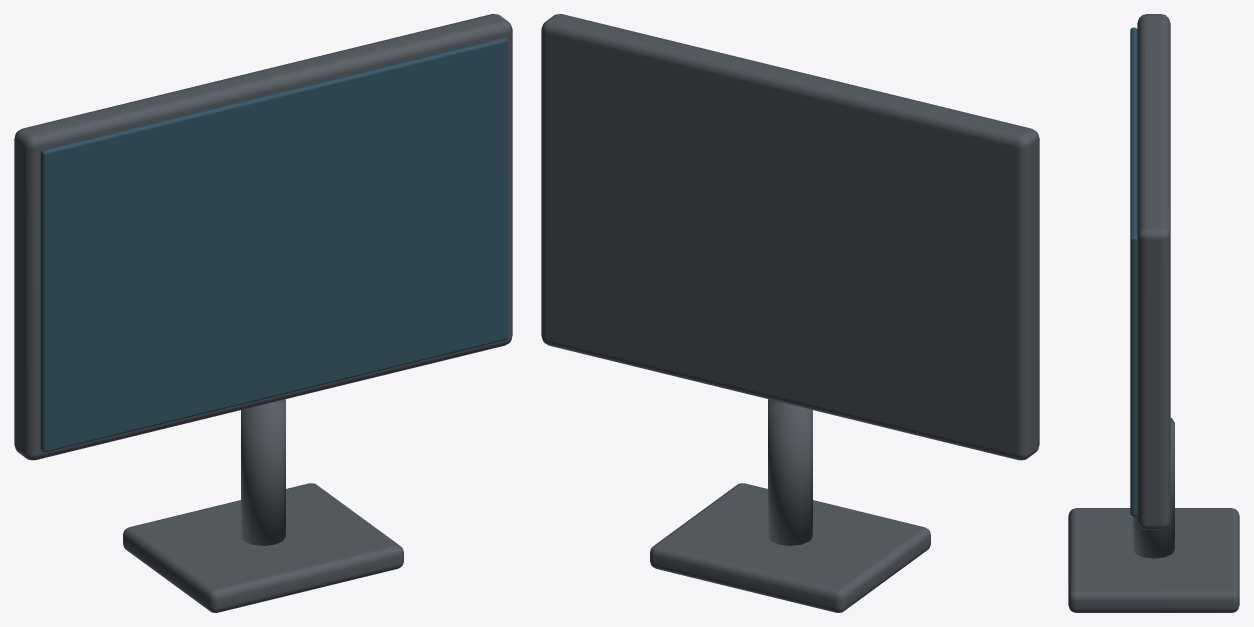
Rendered from atelier-monitor.glb.
3 views of the same model, side by side, from view 1: azimuth 30°, elevation 25°; view 2: azimuth 150°, elevation 25°; view 3: azimuth 270°, elevation 25° (orthographic). The views are drawn at different scales.
Visible parts, largest first — view 1: screen.009, metal.149; view 2: metal.149; view 3: metal.149, screen.009.
Boxes of the visible parts, left/top/right/bottom form: screen.009: left=40, top=37, right=507, bottom=452; metal.149: left=14, top=14, right=512, bottom=612; metal.149: left=541, top=14, right=1039, bottom=612; metal.149: left=1068, top=14, right=1239, bottom=612; screen.009: left=1130, top=27, right=1137, bottom=516.
Size of the model in its own units: 0.55 by 0.5225 by 0.18.
